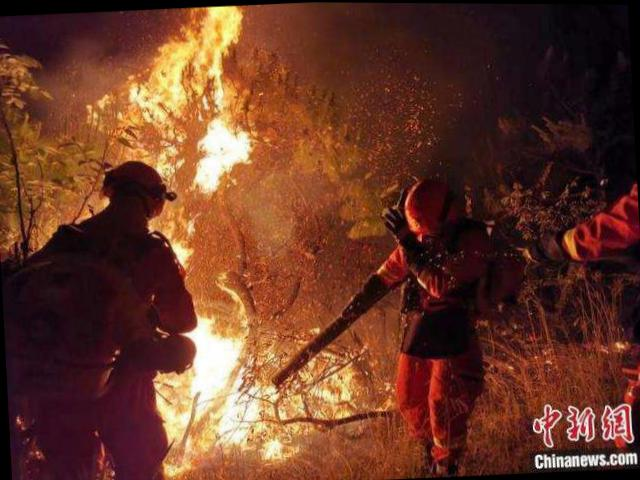fire: (151, 229, 286, 465), (134, 4, 266, 192)
